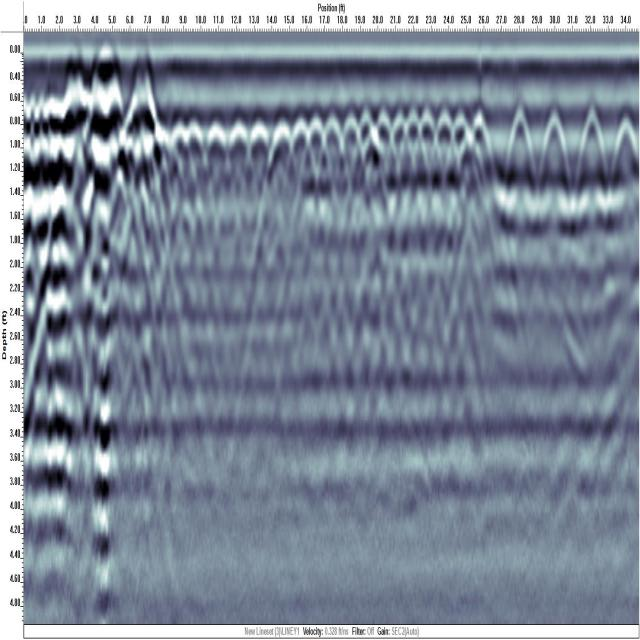hyperbola: (499, 90, 539, 222), (246, 115, 271, 216), (202, 118, 230, 207)
